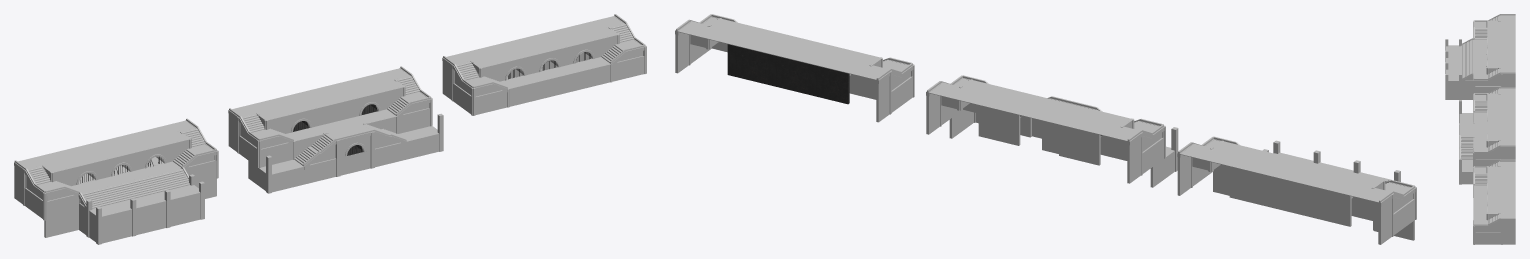
File: Docks_Stone_Walls_1A1.fbx
3 renders of one model, left to right at view 1: azimuth 30°, elevation 25°; view 2: azimuth 150°, elevation 25°; view 3: azimuth 270°, elevation 25°, orthographic. The views are drawn at different scales.
Parts seen in each view (by area): view 1: Docks_Stone_Wall_1A3, Docks_Stone_Wall_1A2, Docks_Stone_Wall_1A1; view 2: Docks_Stone_Wall_1A3, Docks_Stone_Wall_1A2, Docks_Stone_Wall_1A1; view 3: Docks_Stone_Wall_1A3, Docks_Stone_Wall_1A2, Docks_Stone_Wall_1A1.
Part boxes in pixels (left/top/right/bottom): Docks_Stone_Wall_1A3: left=14, top=118, right=218, bottom=244; Docks_Stone_Wall_1A2: left=228, top=66, right=443, bottom=193; Docks_Stone_Wall_1A1: left=442, top=14, right=646, bottom=115; Docks_Stone_Wall_1A3: left=1177, top=136, right=1416, bottom=244; Docks_Stone_Wall_1A2: left=926, top=75, right=1178, bottom=187; Docks_Stone_Wall_1A1: left=675, top=14, right=914, bottom=122; Docks_Stone_Wall_1A3: left=1445, top=14, right=1515, bottom=99; Docks_Stone_Wall_1A2: left=1459, top=87, right=1515, bottom=184; Docks_Stone_Wall_1A1: left=1473, top=159, right=1515, bottom=244.
Bounding box in the file's own units: 14080 × 1236 × 2045.
